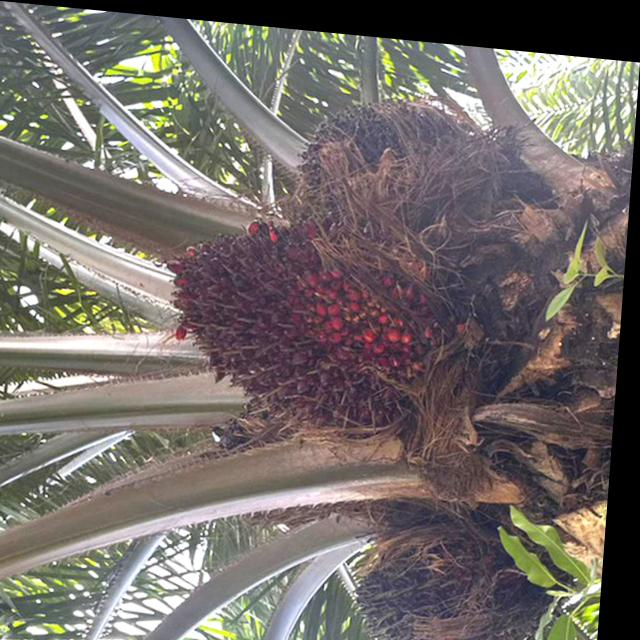ripe: (147, 180, 478, 447), (342, 499, 562, 640)
